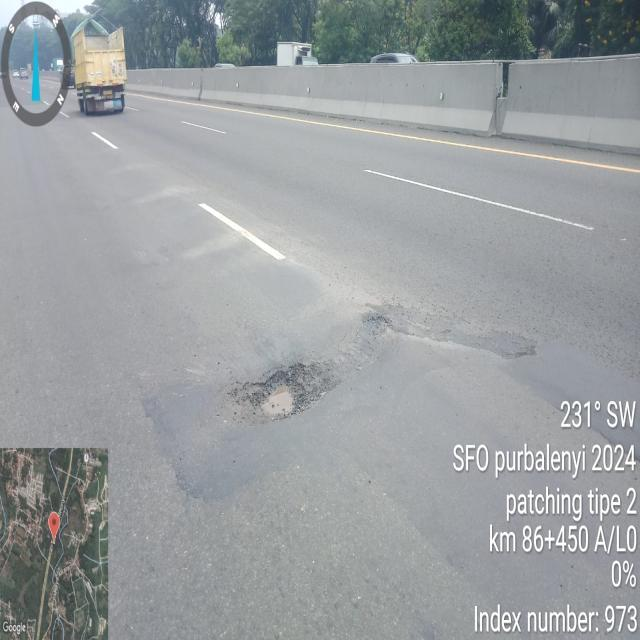Buraco: (238, 361, 324, 424)
